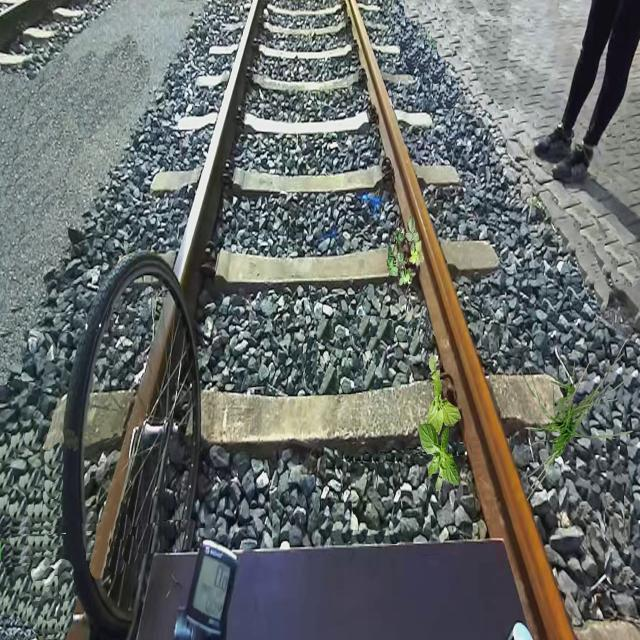Plant: (516, 337, 634, 500), (426, 355, 462, 438), (418, 421, 460, 492), (387, 216, 424, 290)
